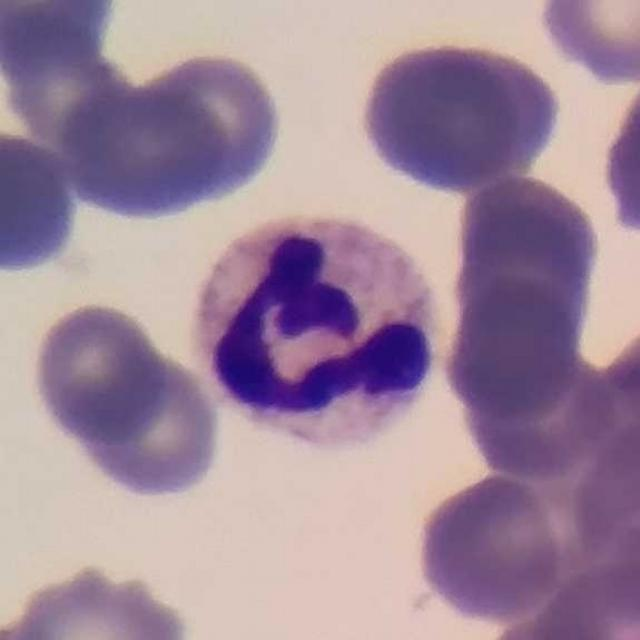Neutrophil: (181, 205, 456, 472)
RBC: (351, 29, 568, 197), (53, 327, 226, 504), (118, 46, 289, 218), (445, 170, 607, 348), (57, 74, 234, 227), (410, 470, 568, 626), (22, 295, 174, 453), (438, 270, 586, 428), (451, 342, 615, 483), (0, 10, 139, 153), (3, 558, 199, 640), (0, 122, 85, 280), (0, 0, 128, 80), (569, 417, 640, 560), (573, 328, 640, 477), (526, 555, 640, 640), (594, 57, 640, 264), (532, 0, 640, 87), (476, 596, 634, 639)
